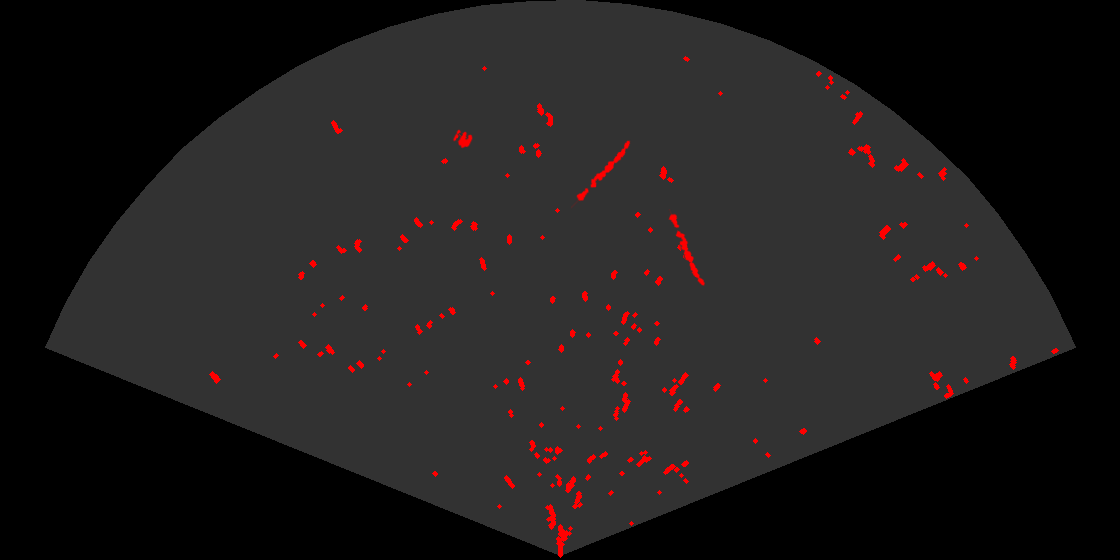ball: (451, 128, 474, 150)
chain: (571, 139, 632, 210), (667, 209, 706, 288)
